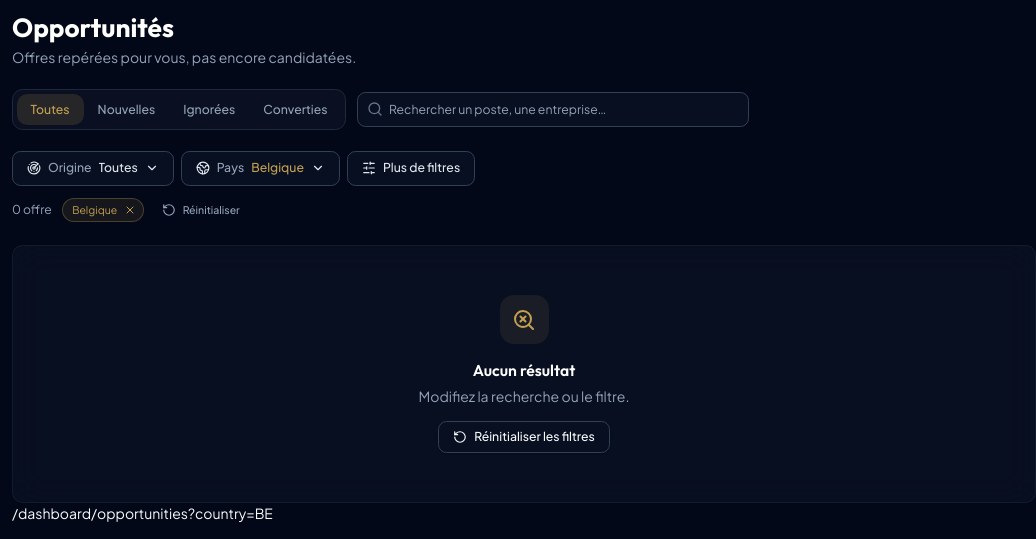
Test: Opportunités — filtres et URL › résultat vide filtré : message et réinitialisation
Expected: the element with test id "opportunities-empty" shows "Aucun résultat", [473, 360, 575, 380]
Expected: the text with test id "opportunity-count" reads "0 offre", [12, 201, 52, 217]
Step 1. Click the button with test id "opportunities-empty-reset" → (524,437), box [438, 421, 610, 452]
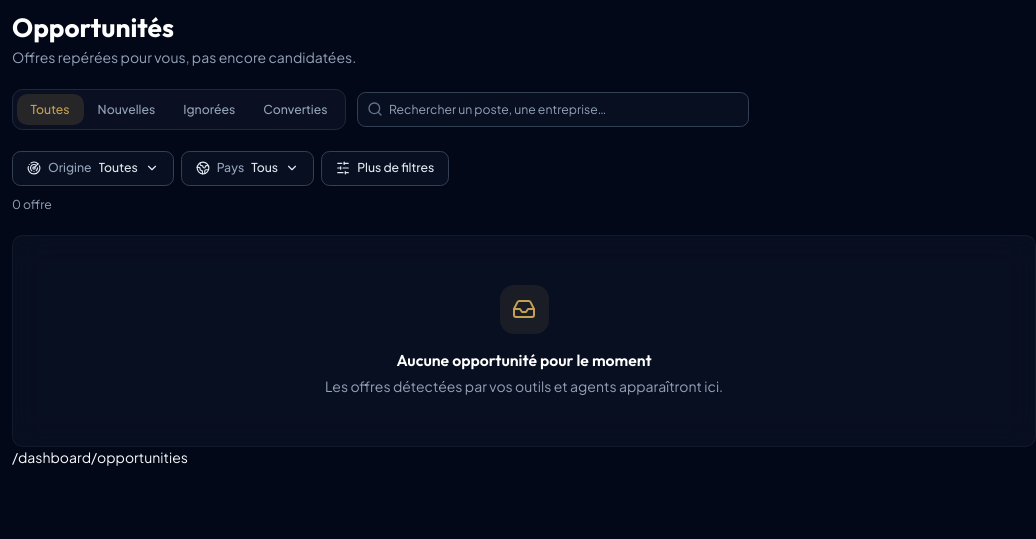
Now the text with test id "location" reads "/dashboard/opportunities", box [12, 448, 188, 466]
